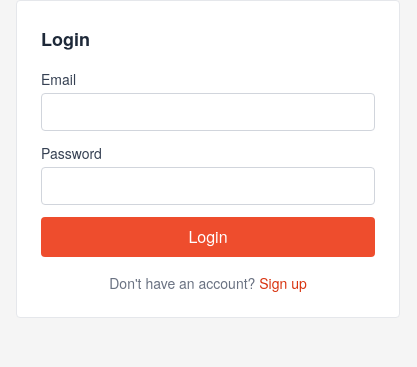
Test: LoginPage › shows an error message when login fails
This screenshot has width=417, height=367.
Type "jane@example.com" into the field labelled "Email" at [208, 112], box [41,93,375,131]
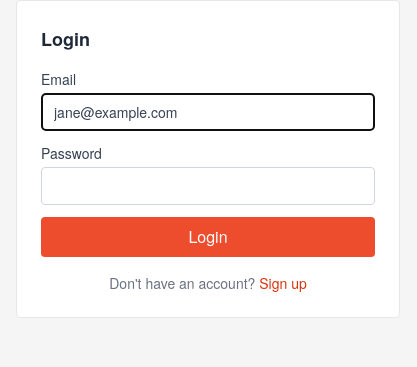
Type "wrong-password" into the password field labelled "Password" at [208, 186], box [41,167,375,205]
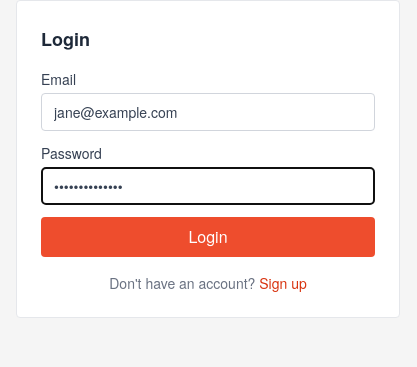
Click the button "Login" at [208, 237], box [41,217,375,257]
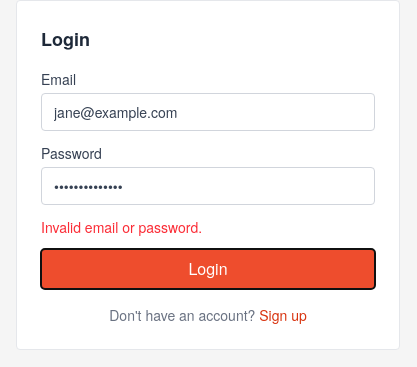
Expected: the text "Invalid email or password." is shown, [41,217,202,237]
